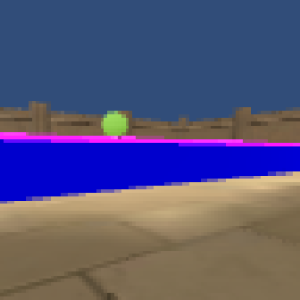goodGoal: (100, 109, 131, 136)
platform: (1, 143, 297, 204)
ramp: (1, 130, 289, 147)
